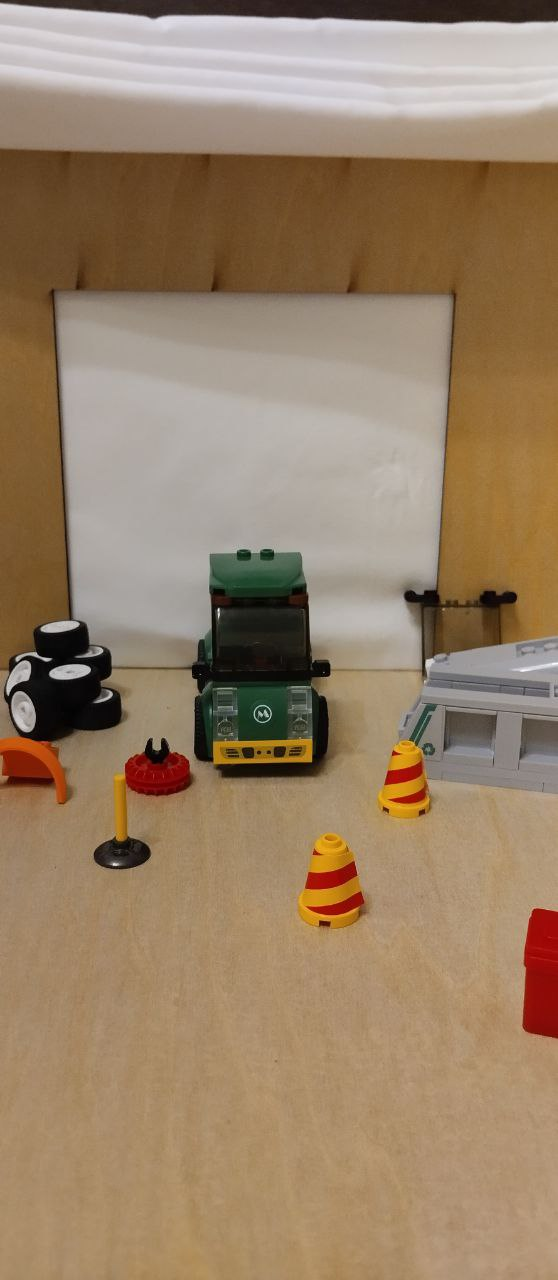Cone: (291, 828, 377, 932), (377, 735, 435, 816)
Object Red: (523, 901, 558, 1040)
Truck: (195, 542, 327, 779)
